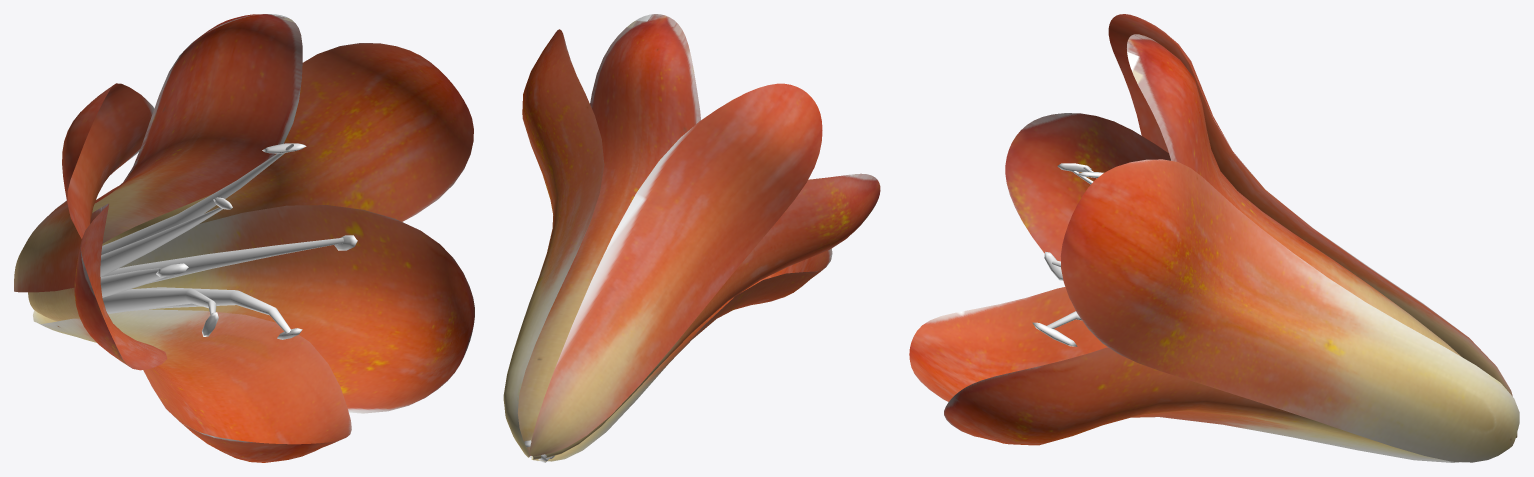
3 renders of one model, left to right at view 1: azimuth 30°, elevation 25°; view 2: azimuth 150°, elevation 25°; view 3: azimuth 270°, elevation 25°, orthographic. The views are drawn at different scales.
Visible parts, largest first — view 1: G-Line003.016; view 2: G-Line003.016; view 3: G-Line003.016.
Part boxes in pixels (<box>): G-Line003.016: <box>14,14,474,462</box>; G-Line003.016: <box>503,14,880,462</box>; G-Line003.016: <box>909,14,1519,462</box>.
Bounding box in the file's own units: 0.853 × 0.8732 × 1.12.
3 materials, 1 textured.
